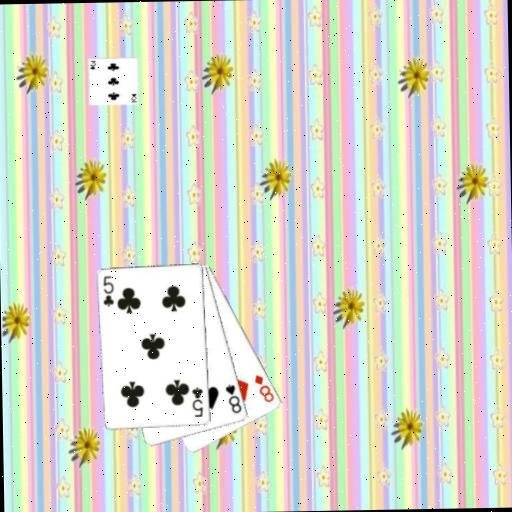5C: (100, 274, 116, 309), (189, 385, 205, 419)
8D: (252, 371, 276, 404)
8S: (223, 381, 244, 415)
